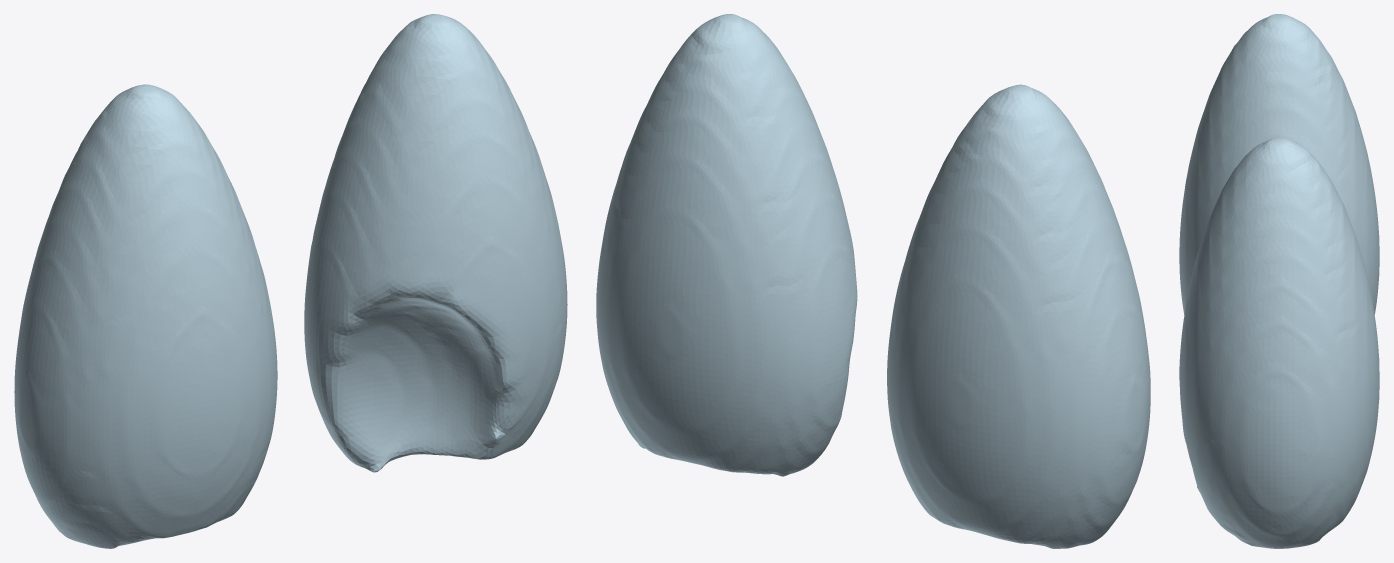
File: organ-lung.glb
3 renders of one model, left to right at view 1: azimuth 30°, elevation 25°; view 2: azimuth 150°, elevation 25°; view 3: azimuth 270°, elevation 25°, orthographic. The views are drawn at different scales.
Visible parts, largest first — view 1: geometry_0; view 2: geometry_0; view 3: geometry_0.
Boxes of the visible parts, left/top/right/bottom form: geometry_0: left=14, top=14, right=567, bottom=548; geometry_0: left=596, top=14, right=1150, bottom=548; geometry_0: left=1179, top=14, right=1379, bottom=548.
Size of the model in its own units: 0.527 by 0.4124 by 0.1988.
